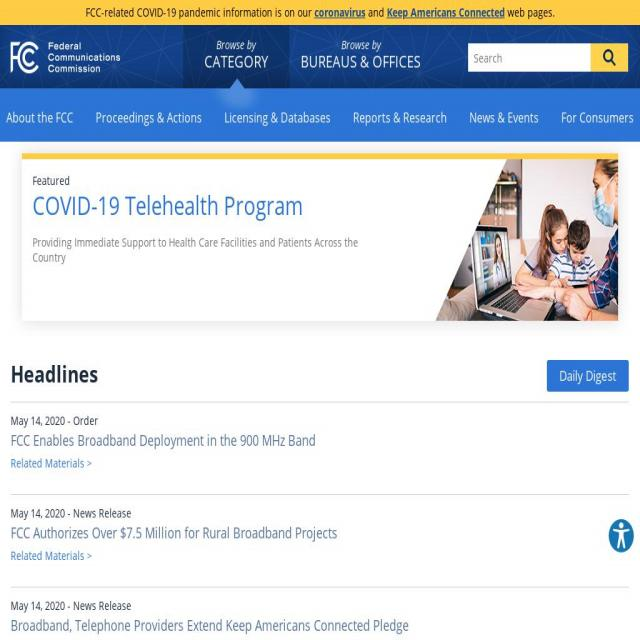navigation-blocks: (6, 392, 412, 640)
navigation-links: (2, 96, 632, 134)
search: (463, 37, 632, 81)
